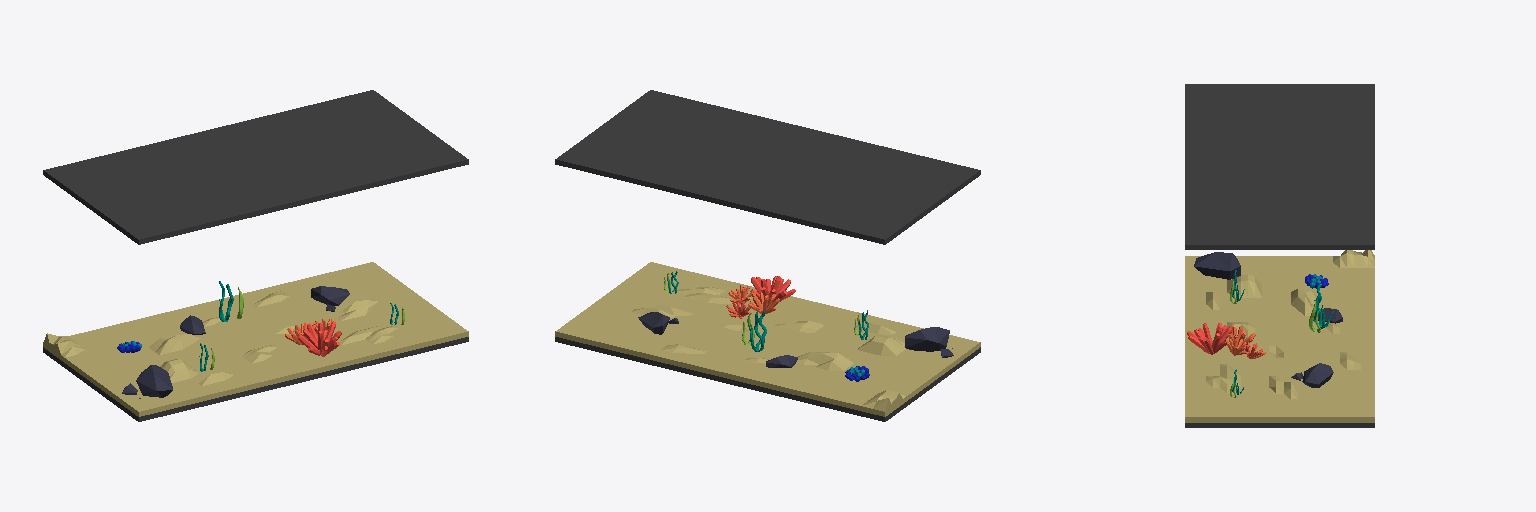
The model's file is tank.obj.
The picture shows the model from 3 angles: view 1: azimuth 30°, elevation 25°; view 2: azimuth 150°, elevation 25°; view 3: azimuth 270°, elevation 25°; orthographic projection.
Parts seen in each view (by area): view 1: 001_Box_2, 000_Box_2_-_baked, 002_Box_1, 010_Stones_1, 011_Stones; view 2: 001_Box_2, 000_Box_2_-_baked, 002_Box_1, 010_Stones_1; view 3: 001_Box_2, 000_Box_2_-_baked, 010_Stones_1, 002_Box_1, 011_Stones.
Part boxes in pixels (left/top/right/bottom): 001_Box_2: left=43, top=90, right=468, bottom=244; 000_Box_2_-_baked: left=43, top=262, right=468, bottom=416; 002_Box_1: left=43, top=337, right=468, bottom=421; 010_Stones_1: left=122, top=365, right=172, bottom=398; 011_Stones: left=311, top=286, right=349, bottom=311; 001_Box_2: left=555, top=90, right=980, bottom=244; 000_Box_2_-_baked: left=555, top=262, right=980, bottom=416; 002_Box_1: left=555, top=337, right=980, bottom=421; 010_Stones_1: left=905, top=327, right=953, bottom=357; 001_Box_2: left=1185, top=84, right=1374, bottom=249; 000_Box_2_-_baked: left=1185, top=250, right=1374, bottom=422; 010_Stones_1: left=1194, top=252, right=1240, bottom=279; 002_Box_1: left=1185, top=423, right=1374, bottom=427; 011_Stones: left=1291, top=363, right=1333, bottom=387.
Bounding box in the file's own units: 200 × 106 × 100.